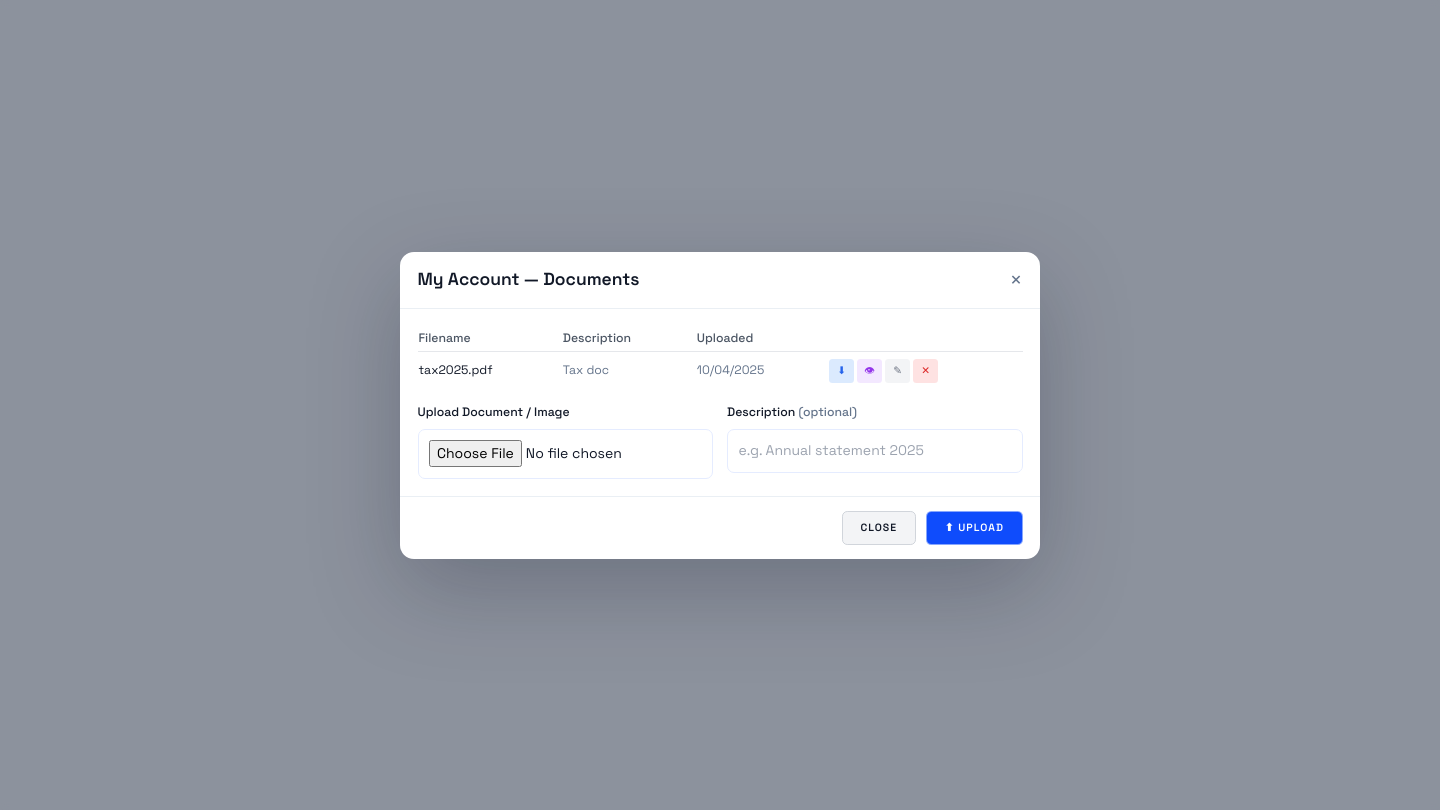
AccountDocumentsModal › downloadDoc › shows error on download failure
Click the button titled "Download". click: click(842, 371)
box: [829,358,854,383]
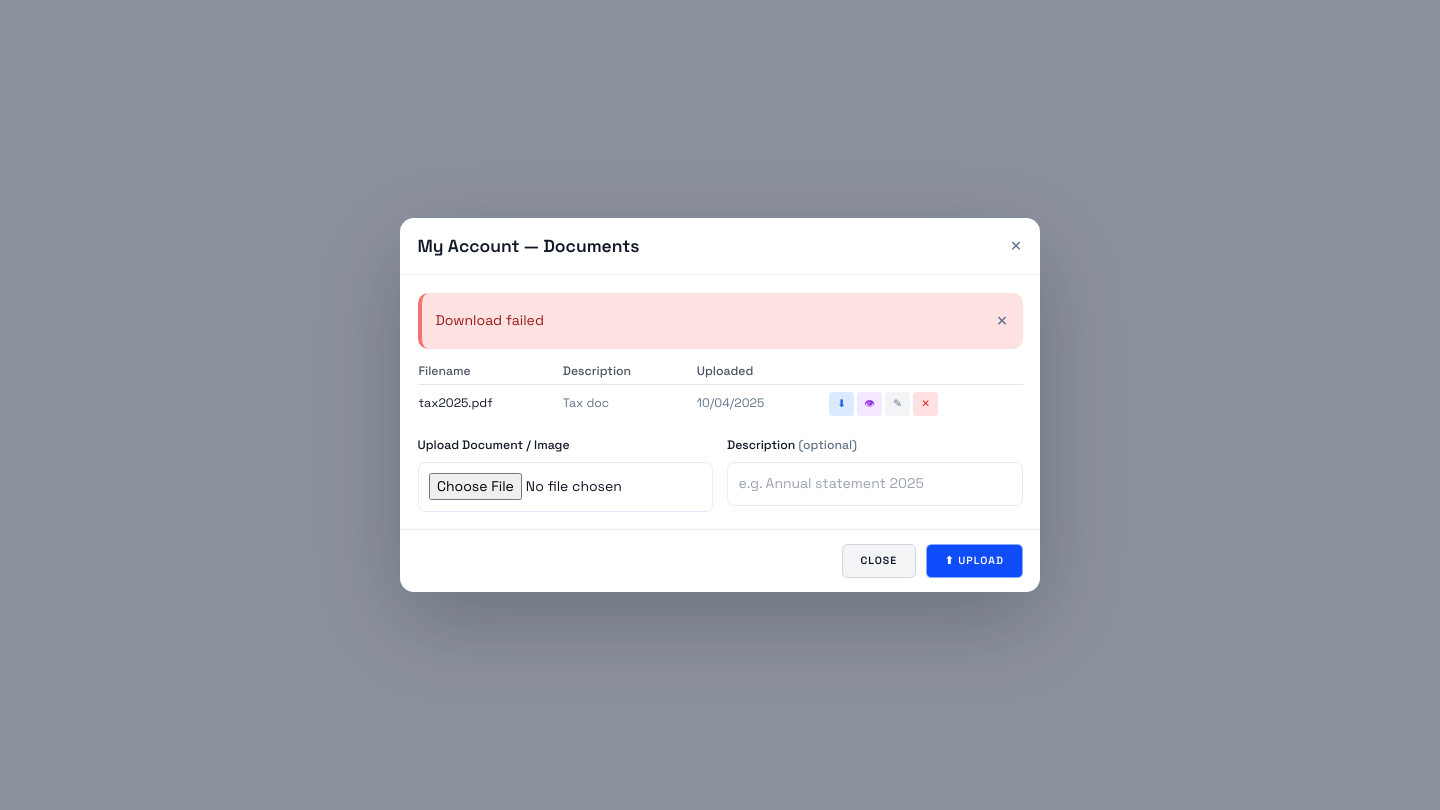
Now the text "Download failed" is shown, box [436,310,544,331]
